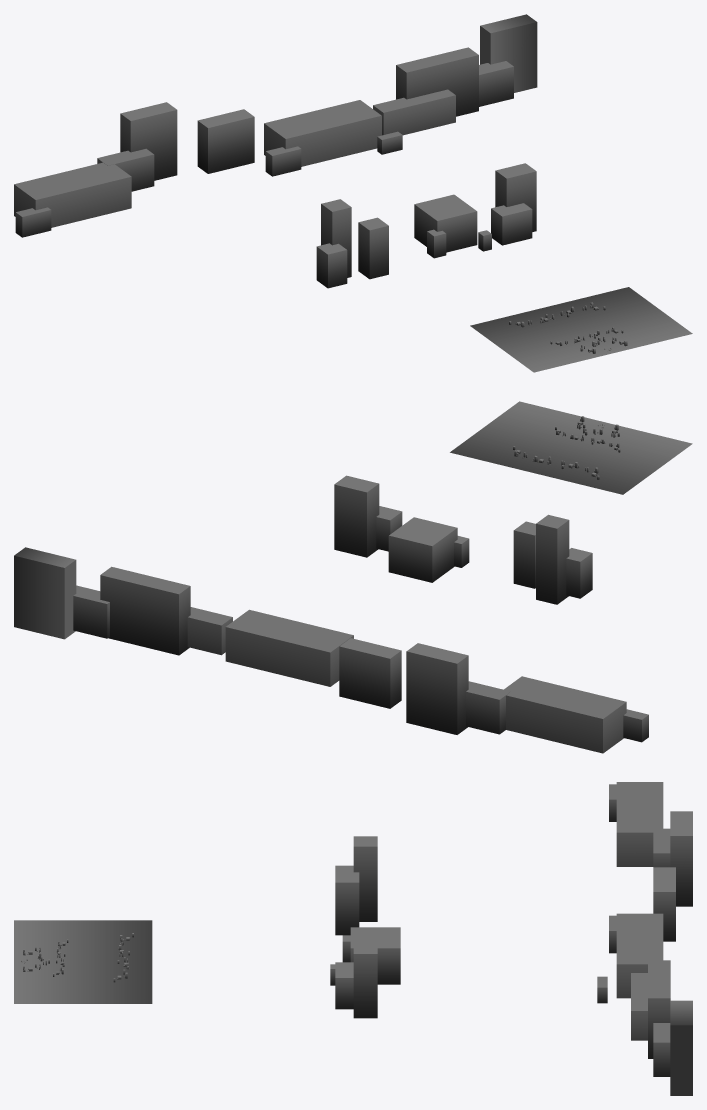
The model's file is Intro1.fbx.
3 renders of one model, top to bottom at view 1: azimuth 30°, elevation 25°; view 2: azimuth 150°, elevation 25°; view 3: azimuth 270°, elevation 25°, orthographic. The views are drawn at different scales.
Parts seen in each view (by area): view 1: Scene_1; view 2: Scene_1; view 3: Scene_1.
Boxes of the visible parts, bbox=[...] form: Scene_1: bbox=[14, 14, 692, 372]; Scene_1: bbox=[14, 401, 692, 753]; Scene_1: bbox=[14, 782, 692, 1095].
Size of the model in its own units: 205435 by 25206 by 206176.
